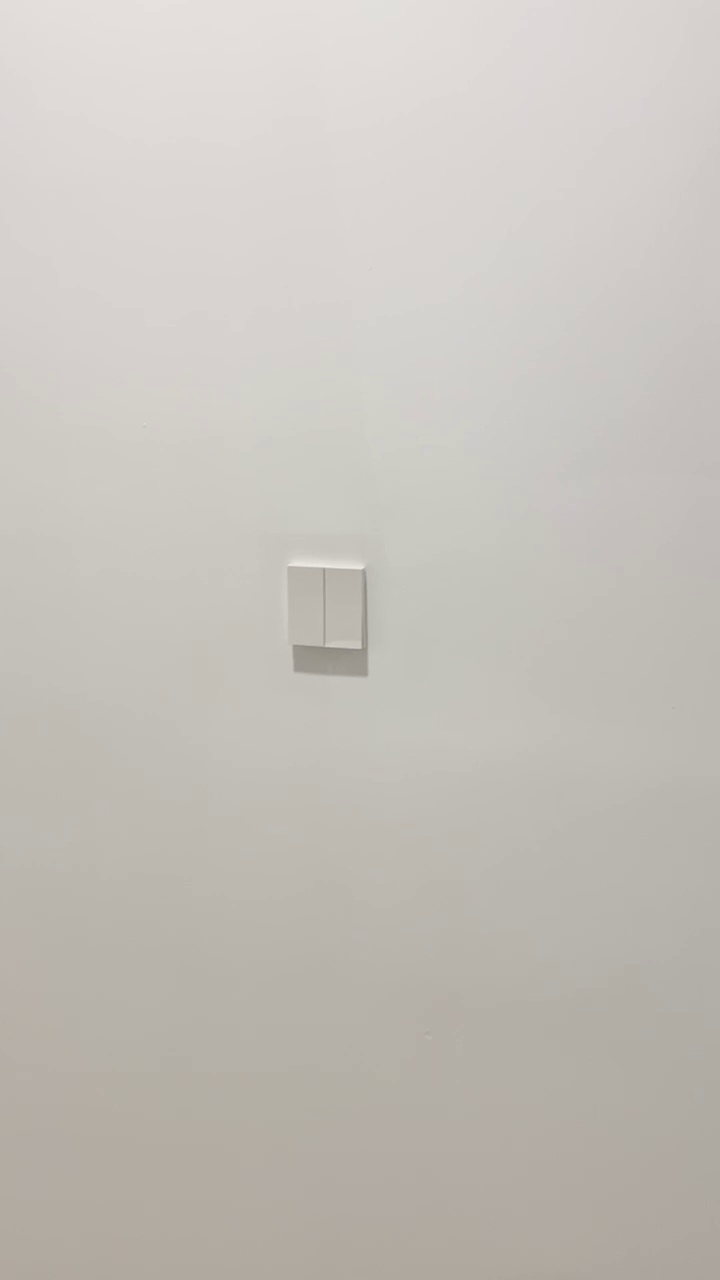button: (283, 555, 377, 655)
